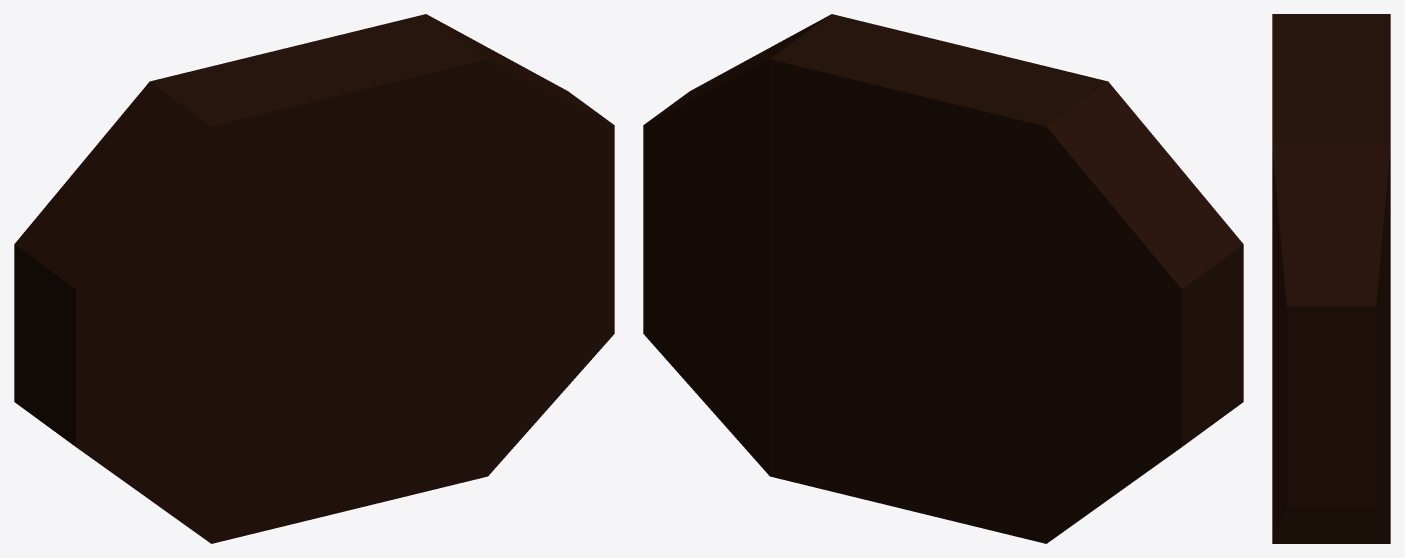
Rendered from chocolateChip.obj.
3 views of the same model, side by side, from view 1: azimuth 30°, elevation 25°; view 2: azimuth 150°, elevation 25°; view 3: azimuth 270°, elevation 25° (orthographic). The views are drawn at different scales.
Visible parts, largest first — view 1: Cube.001; view 2: Cube.001; view 3: Cube.001.
Boxes of the visible parts, x1,y1,x2,y2 form: Cube.001: [14, 14, 614, 543]; Cube.001: [643, 14, 1243, 543]; Cube.001: [1272, 14, 1390, 543].
Bounding box in the file's own units: 0.0128 × 0.00933 × 0.00251.
